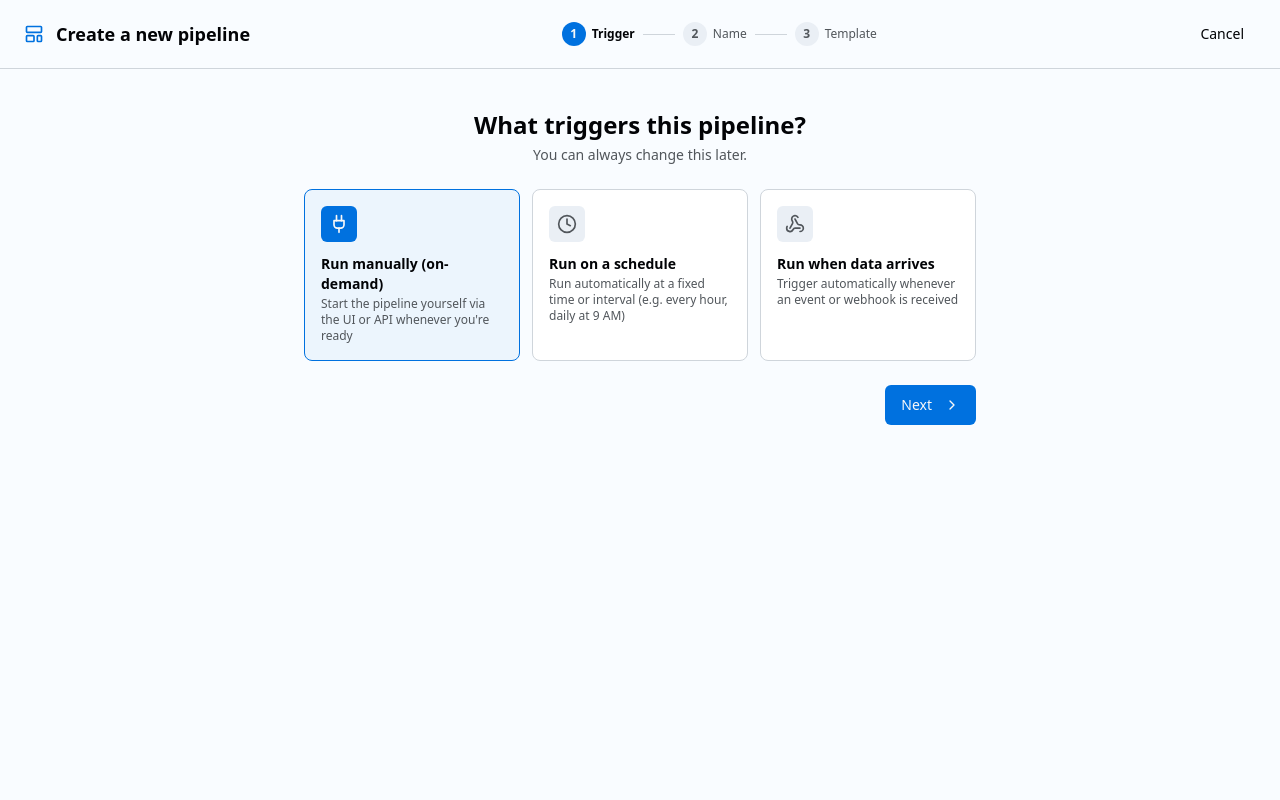
Test: TemplateGallery — Step 2: Name › shows an error when Next is clicked with an empty name
Click the button "Next".
click(931, 405)  # box [885,385,976,425]
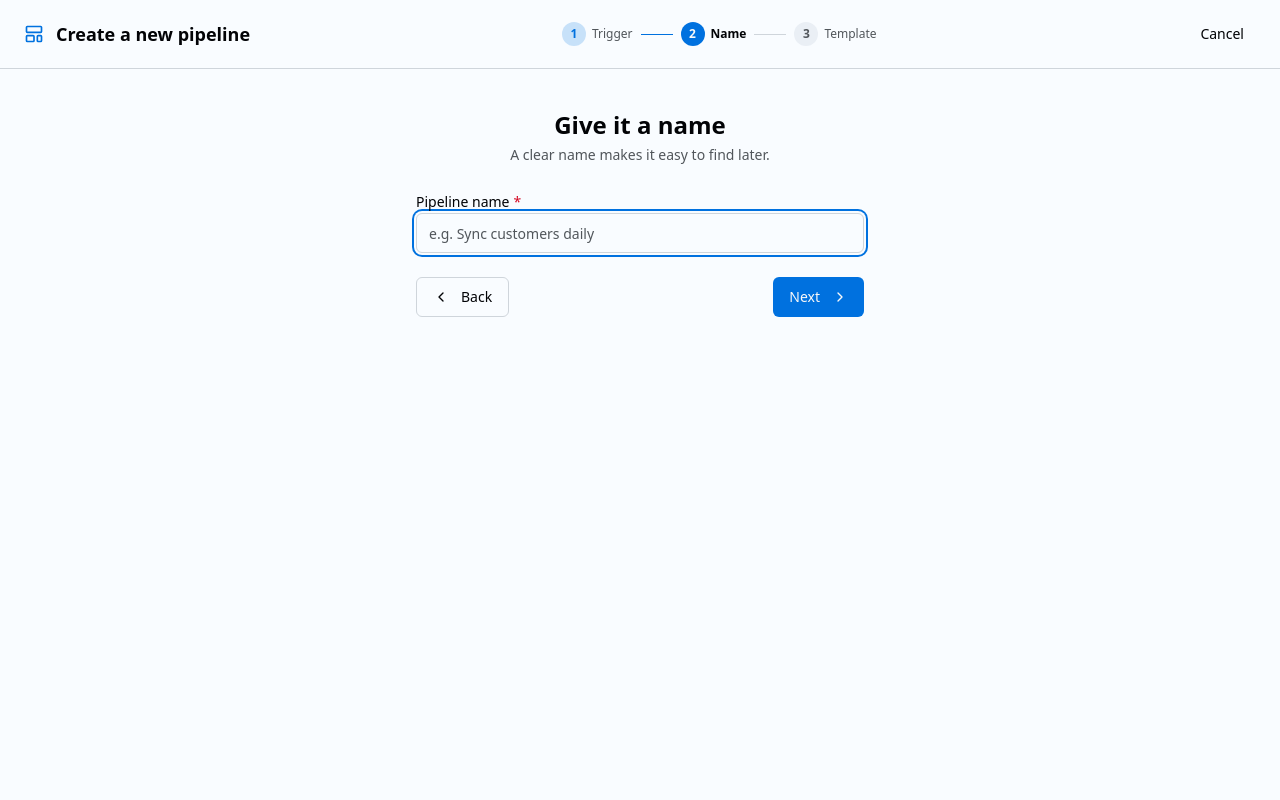
Click the button "Next".
click(819, 297)  # box [773,277,864,317]
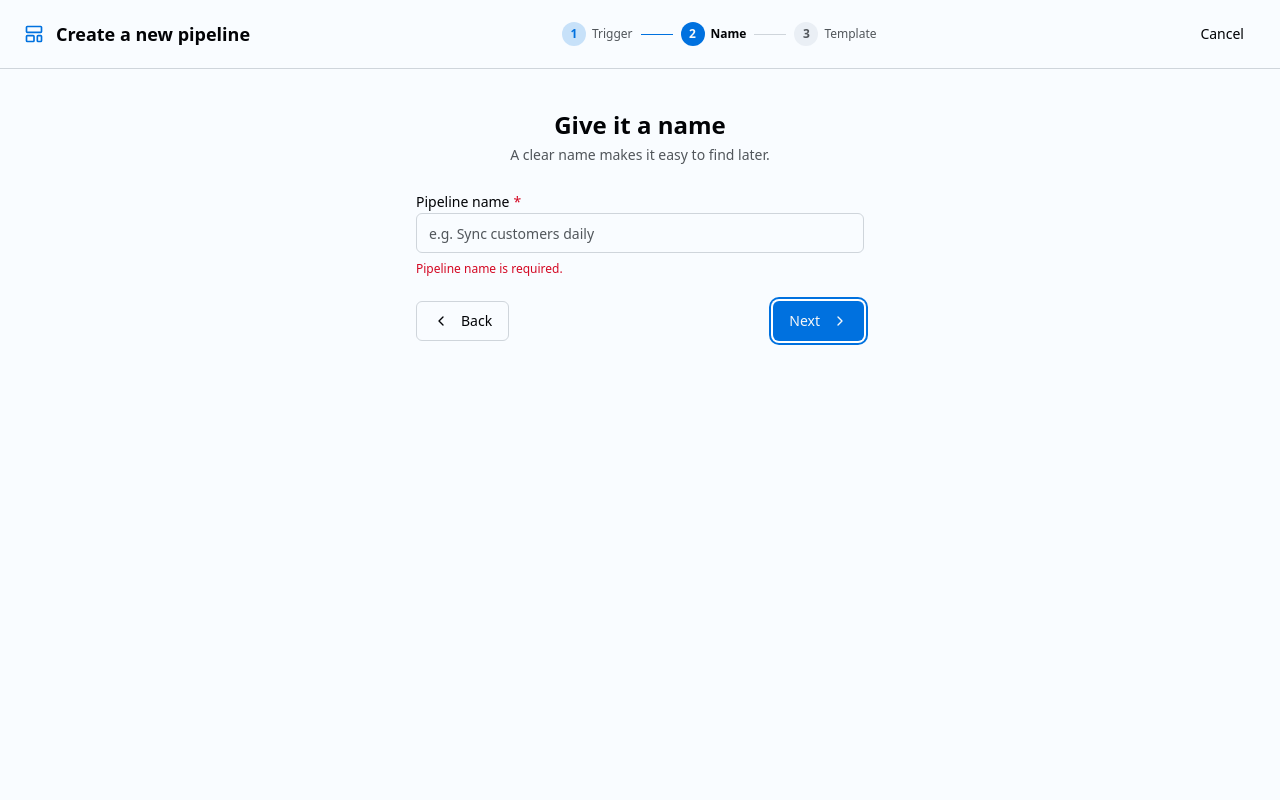
Result: the text "Pipeline name is required." is shown at [416,260,563,277]
